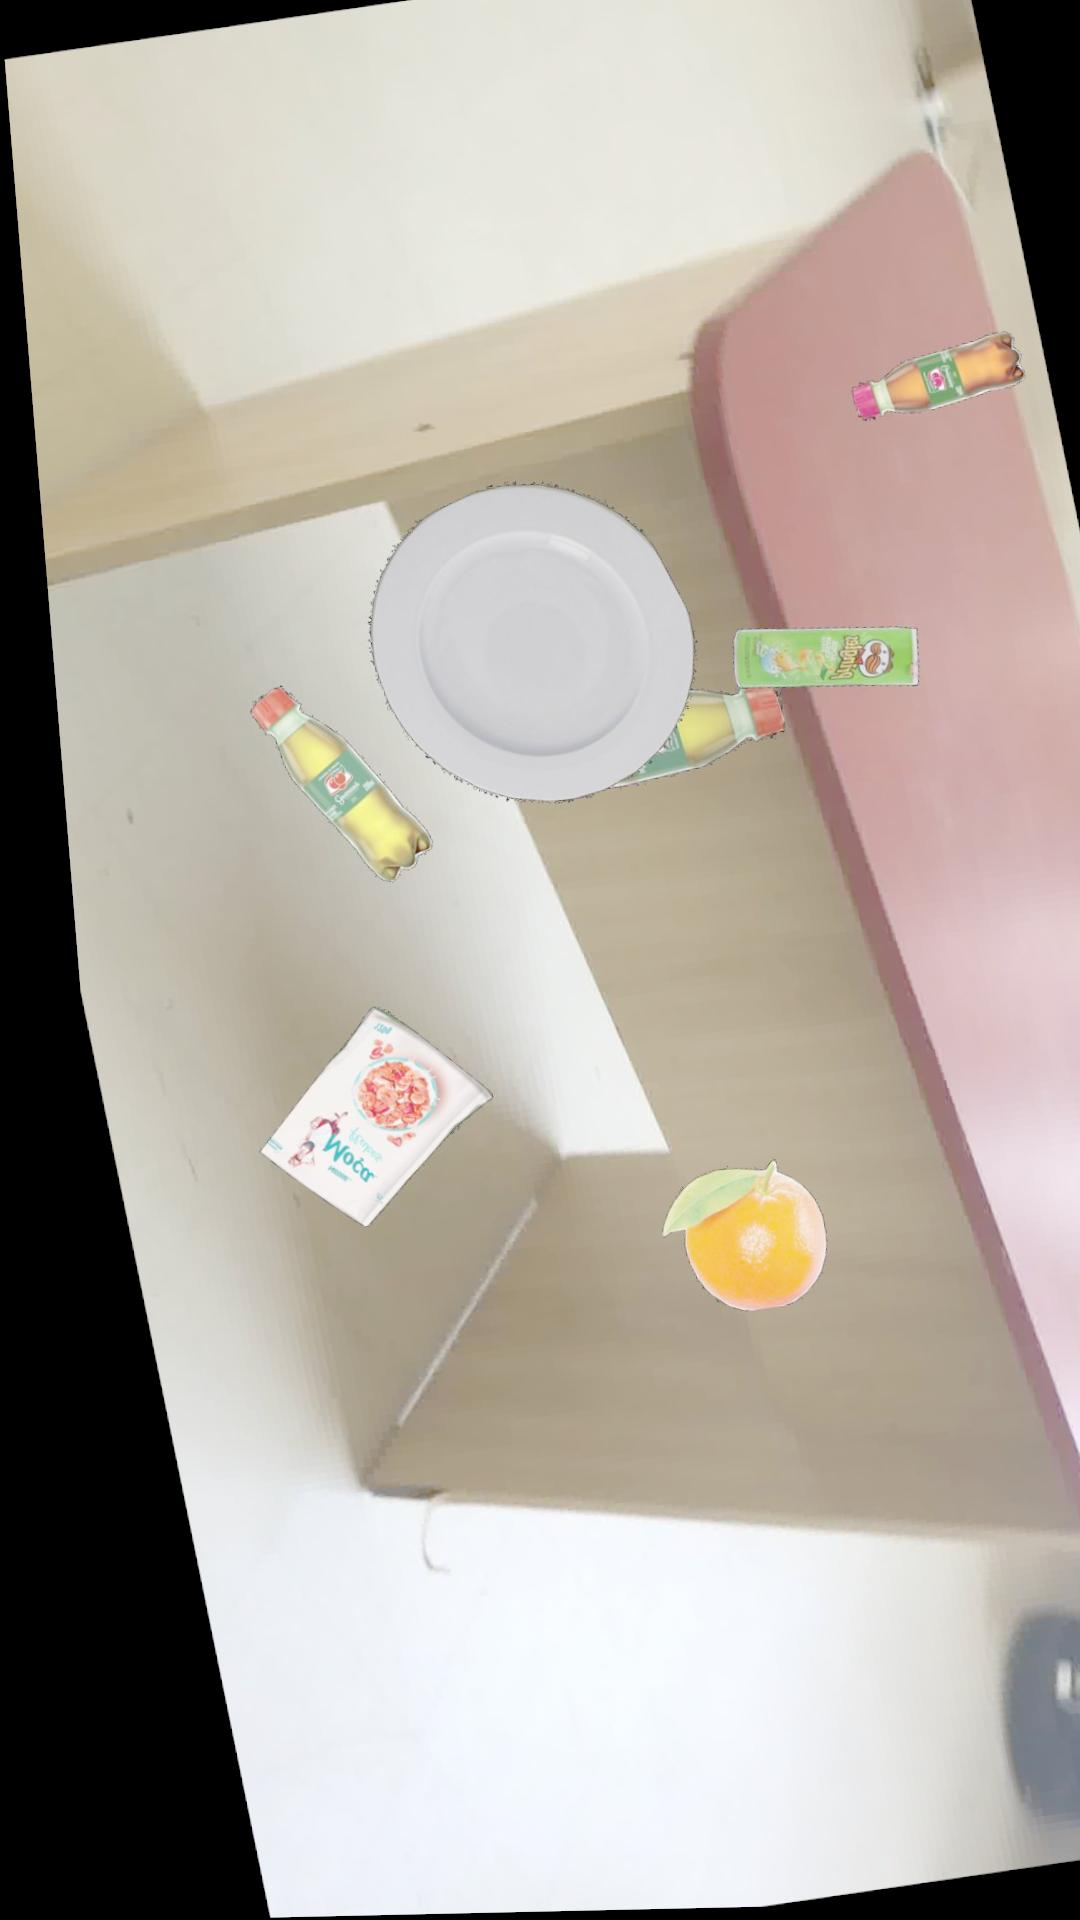corn flakes: (237, 1009, 472, 1229)
guarana: (237, 687, 415, 885), (592, 692, 770, 793), (843, 338, 1017, 426)
orange: (640, 1163, 803, 1315)
plate: (355, 485, 683, 806)
pringles: (720, 632, 906, 692)
